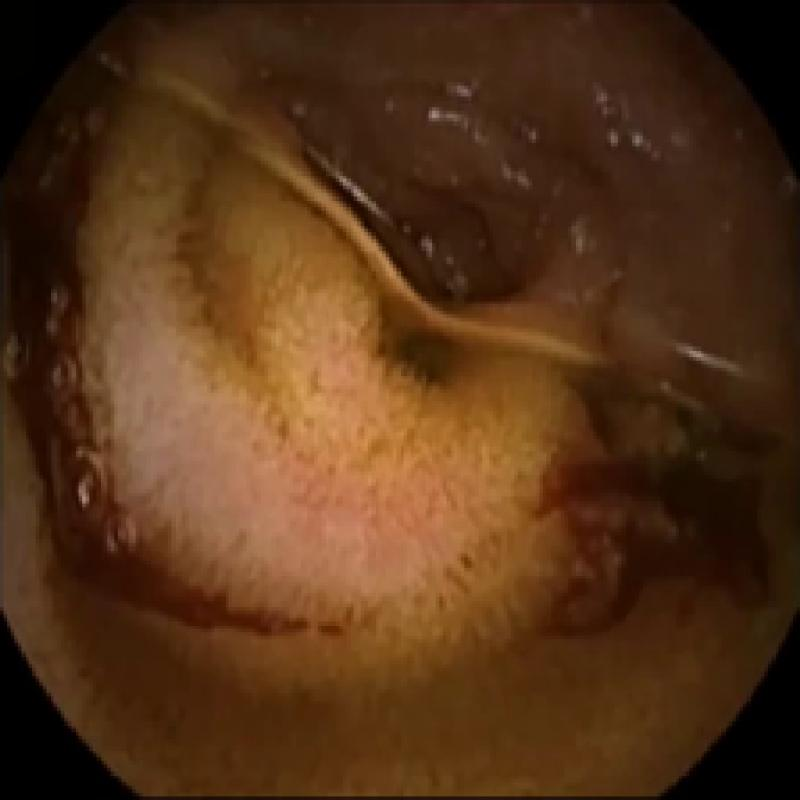bleeding: (0, 0, 329, 636), (540, 332, 800, 651)
